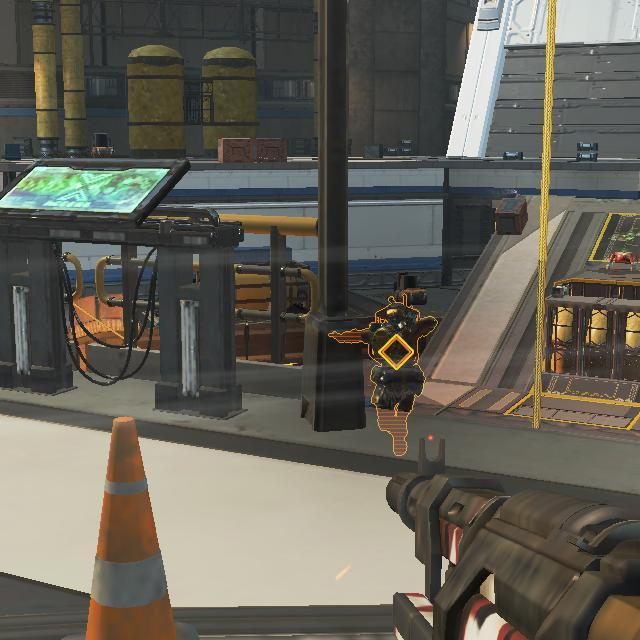avatar: (359, 293, 441, 414)
object: (376, 332, 416, 372)
